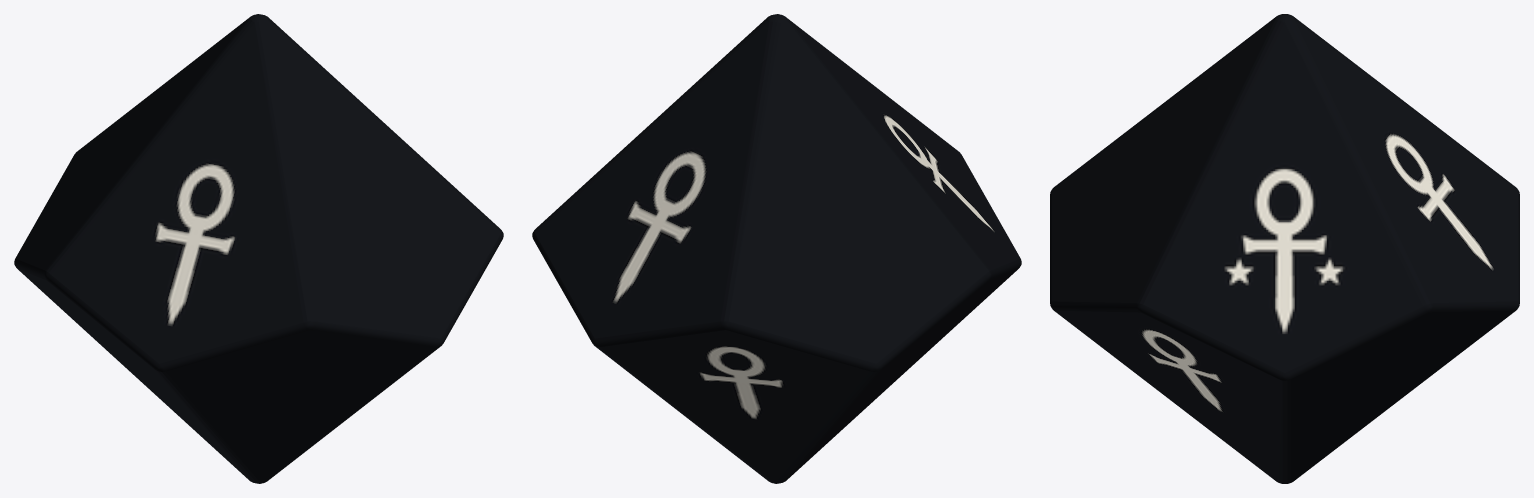
Rendered from vtmblack_d10.glb.
3 views of the same model, side by side, from view 1: azimuth 30°, elevation 25°; view 2: azimuth 150°, elevation 25°; view 3: azimuth 270°, elevation 25° (orthographic).
Parts seen in each view (by area): view 1: vtmblack_shell; view 2: vtmblack_shell; view 3: vtmblack_shell.
Boxes of the visible parts, x1,y1,x2,y2 form: vtmblack_shell: [14, 14, 503, 483]; vtmblack_shell: [532, 14, 1021, 483]; vtmblack_shell: [1050, 14, 1519, 483].
Size of the model in its own units: 1.85 by 1.93 by 1.76.
Materials: 1 (1 with a texture image).
